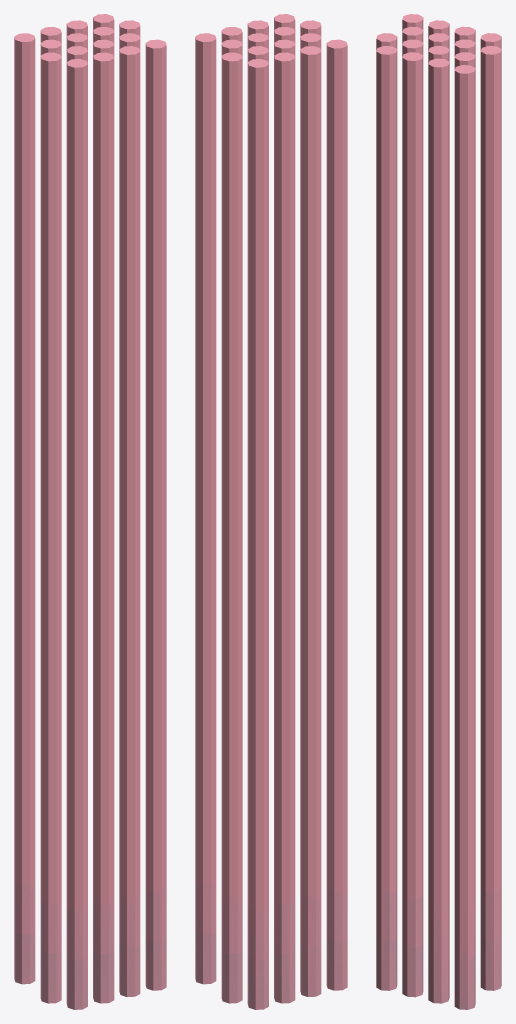
Rendered from myocytesOnlyTest.glb.
3 renders of one model, left to right at view 1: azimuth 30°, elevation 25°; view 2: azimuth 210°, elevation 25°; view 3: azimuth 330°, elevation 25°, orthographic.
Visible parts, largest first — view 1: Cylinder.283, Cylinder.018, Cylinder.208, Cylinder.032, Cylinder.284, Cylinder.202, Cylinder.131, Cylinder.280, Cylinder.036, Cylinder.204, Cylinder.014, Cylinder.127 (+95 smaller); view 2: Cylinder.265, Cylinder.260, Cylinder.036, Cylinder.299, Cylinder.113, Cylinder.111, Cylinder.108, Cylinder.030, Cylinder.183, Cylinder.279, Cylinder.303, Cylinder.186 (+98 smaller); view 3: Cylinder.284, Cylinder.208, Cylinder.302, Cylinder.204, Cylinder.126, Cylinder.129, Cylinder.206, Cylinder.280, Cylinder.299, Cylinder.303, Cylinder.050, Cylinder.283 (+76 smaller).
Part boxes in pixels (x1=…): Cylinder.283: x1=145, y1=93, x2=166, y2=972; Cylinder.018: x1=40, y1=52, x2=61, y2=931; Cylinder.208: x1=119, y1=46, x2=140, y2=873; Cylinder.032: x1=14, y1=286, x2=34, y2=965; Cylinder.284: x1=145, y1=39, x2=166, y2=984; Cylinder.202: x1=119, y1=349, x2=140, y2=983; Cylinder.131: x1=93, y1=106, x2=114, y2=928; Cylinder.280: x1=145, y1=244, x2=166, y2=973; Cylinder.036: x1=14, y1=87, x2=35, y2=929; Cylinder.204: x1=119, y1=248, x2=140, y2=993; Cylinder.014: x1=40, y1=255, x2=61, y2=930; Cylinder.127: x1=93, y1=306, x2=114, y2=995; Cylinder.265: x1=247, y1=59, x2=268, y2=943; Cylinder.260: x1=247, y1=310, x2=268, y2=994; Cylinder.036: x1=326, y1=93, x2=347, y2=951; Cylinder.299: x1=221, y1=255, x2=242, y2=873; Cylinder.113: x1=300, y1=46, x2=321, y2=993; Cylinder.111: x1=300, y1=149, x2=321, y2=911; Cylinder.108: x1=300, y1=300, x2=321, y2=992; Cylinder.030: x1=326, y1=392, x2=347, y2=976; Cylinder.183: x1=274, y1=355, x2=295, y2=979; Cylinder.279: x1=195, y1=285, x2=216, y2=979; Cylinder.303: x1=221, y1=52, x2=242, y2=970; Cylinder.186: x1=274, y1=205, x2=295, y2=975; Cylinder.284: x1=454, y1=65, x2=475, y2=998; Cylinder.208: x1=428, y1=58, x2=449, y2=923; Cylinder.302: x1=480, y1=100, x2=501, y2=983; Cylinder.204: x1=428, y1=261, x2=449, y2=999; Cylinder.126: x1=403, y1=352, x2=423, y2=955; Cylinder.129: x1=402, y1=205, x2=423, y2=930; Cylinder.206: x1=428, y1=163, x2=449, y2=986; Cylinder.280: x1=454, y1=267, x2=475, y2=996; Cylinder.299: x1=480, y1=249, x2=501, y2=960; Cylinder.303: x1=480, y1=46, x2=501, y2=982; Cylinder.050: x1=376, y1=346, x2=397, y2=975; Cylinder.283: x1=454, y1=118, x2=475, y2=983.
Bounding box in the file's own units: 117 × 950 × 92.
